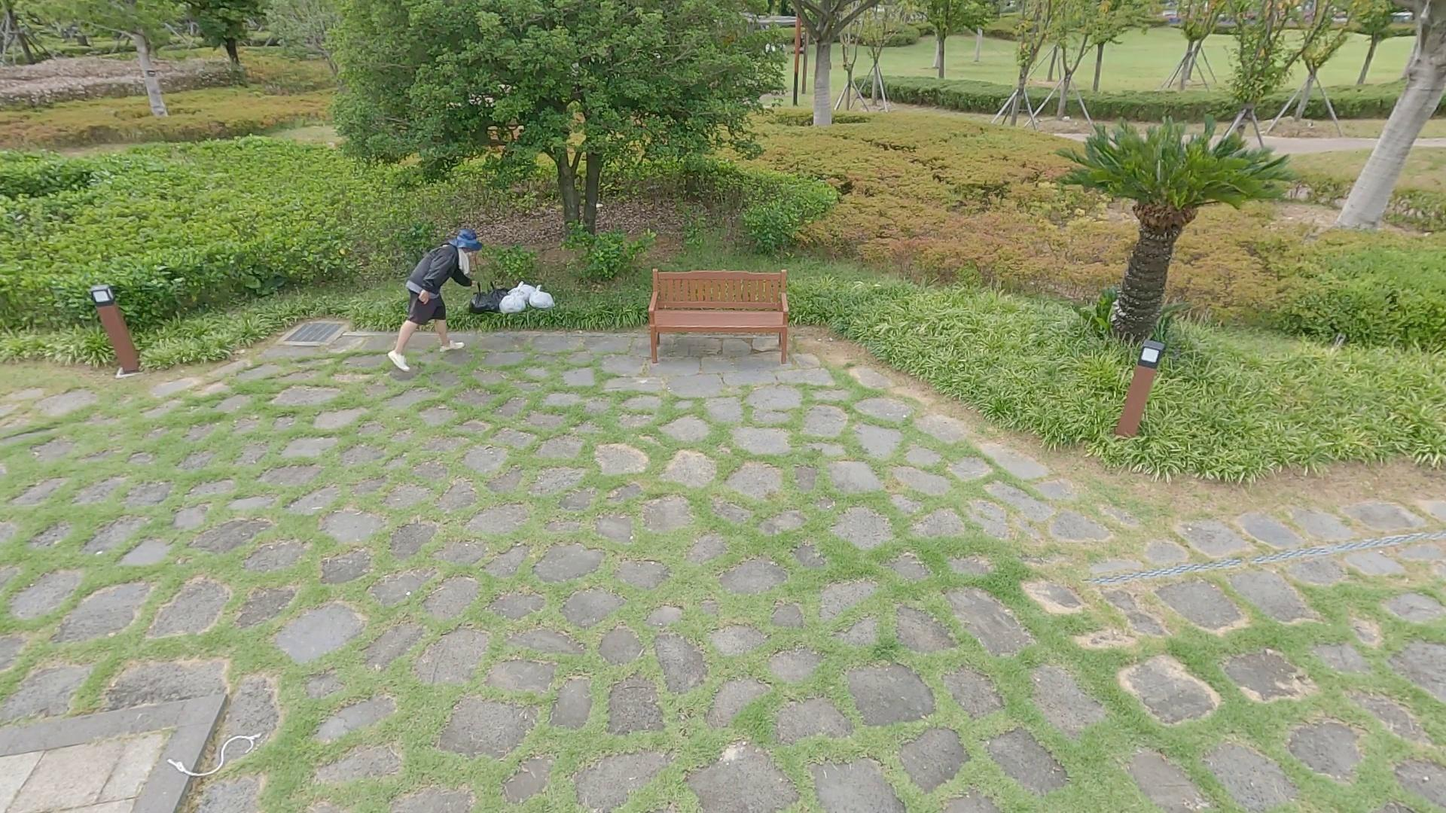person: (383, 224, 484, 373)
trash: (469, 281, 499, 317), (498, 288, 528, 315), (507, 279, 540, 303), (487, 279, 515, 305), (527, 284, 556, 309)
